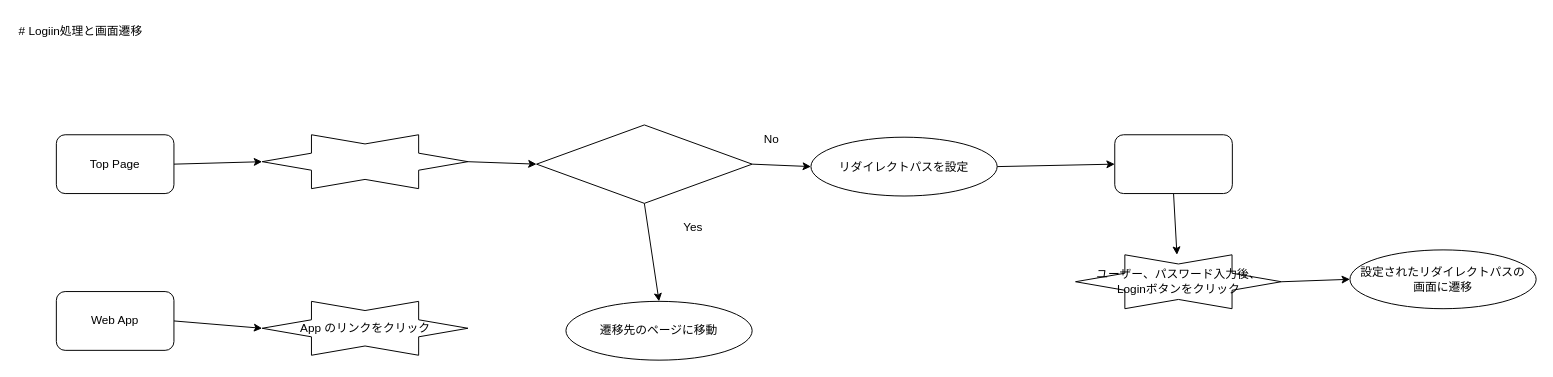
The diagram is 1553 pixels wide and 377 high, and some of its shapes have lost their labels. Each missing label, with the centre of its shape:
Logiin画面: [1173,164]
Login ボタンをクリック: [364,161]
Login済みか？: [644,163]
